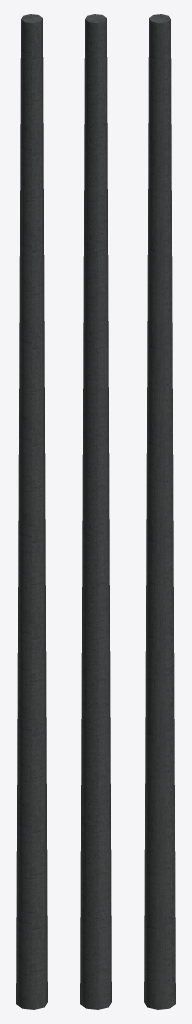
Rendered from pole_concrete_a_lod_0.glb.
3 renders of one model, left to right at view 1: azimuth 30°, elevation 25°; view 2: azimuth 210°, elevation 25°; view 3: azimuth 330°, elevation 25°, orthographic.
Parts seen in each view (by area): view 1: pole_concrete_a_lod_0; view 2: pole_concrete_a_lod_0; view 3: pole_concrete_a_lod_0.
Boxes of the visible parts, box(x1,y1,x2,y2) form: pole_concrete_a_lod_0: box(16, 14, 47, 1009); pole_concrete_a_lod_0: box(80, 14, 111, 1009); pole_concrete_a_lod_0: box(144, 14, 175, 1009).
Size of the model in its own units: 0.2772 by 10.2 by 0.2772.
Materials: 1 (1 with a texture image).
